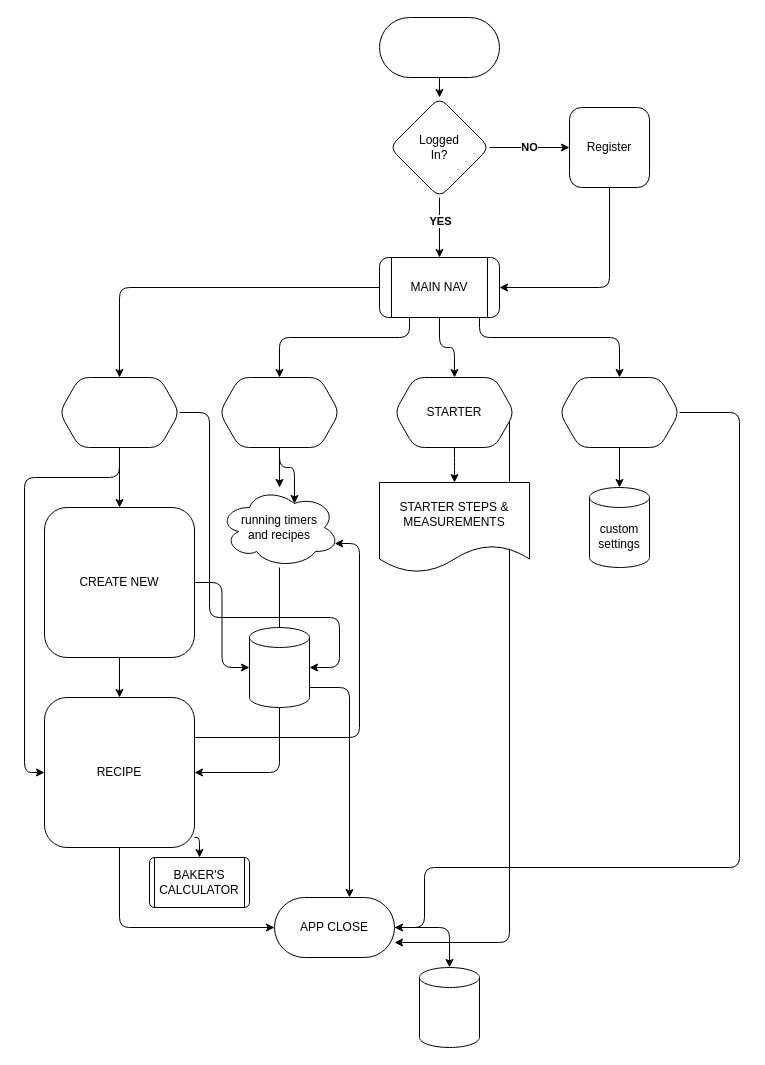
Image size: 765x1065. Some labels were removed from this diagram. The shapes that lost their labels are listed below. From the top down, each one's centre as x and y in pixels, then its label:
At [439,47]: "App start".
At [119,412]: "RECIPES".
At [279,412]: "ACTIVE BAKES".
At [619,412]: "SETTINGS".
At [279,667]: "SAVED".
At [449,1007]: "SAVE & EXIT".
